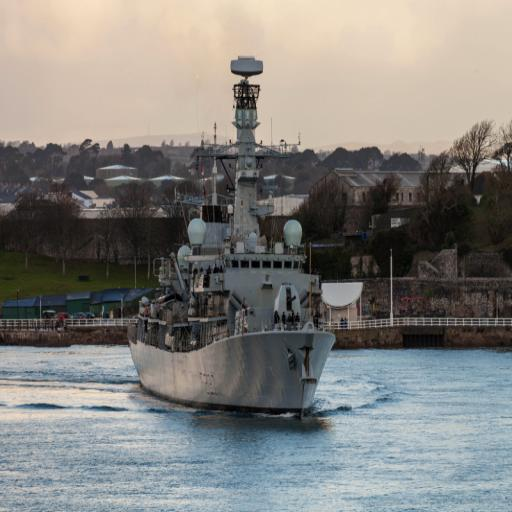Fragata: (126, 26, 341, 427)
